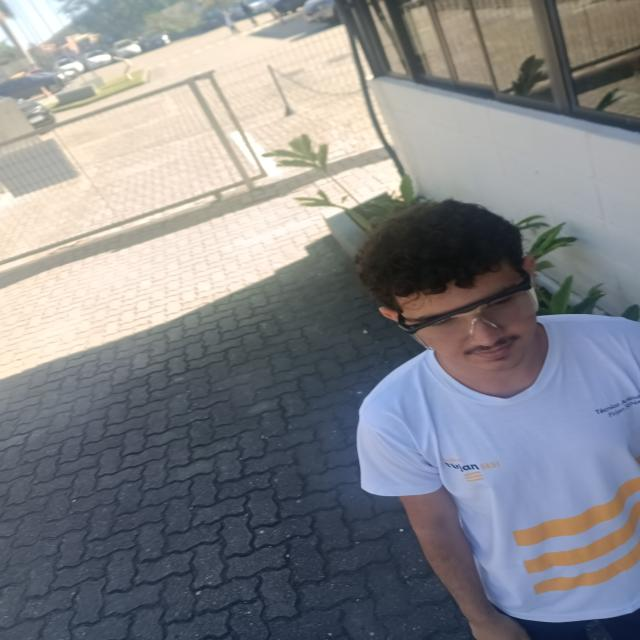oculos-epi: (398, 271, 537, 349)
